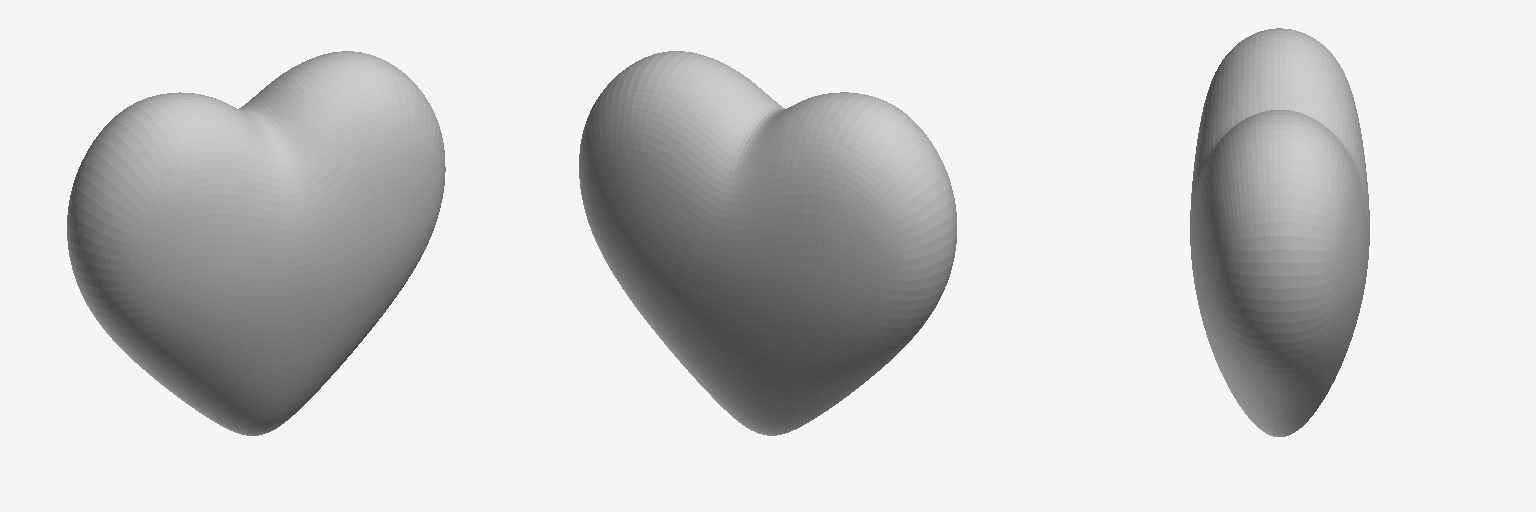
Rendered from heart.obj.
The picture shows the model from 3 angles: view 1: azimuth 30°, elevation 25°; view 2: azimuth 150°, elevation 25°; view 3: azimuth 270°, elevation 25°; orthographic projection.
Visible parts, largest first — view 1: heart; view 2: heart; view 3: heart.
Part boxes in pixels (left/top/right/bottom): heart: left=67, top=51, right=445, bottom=435; heart: left=579, top=51, right=956, bottom=435; heart: left=1190, top=28, right=1369, bottom=436.
Bounding box in the file's own units: 10.62 × 9.96 × 4.57.